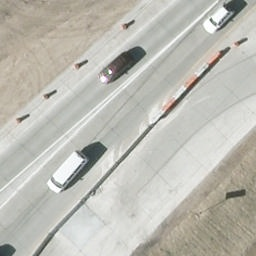car: (101, 54, 134, 87), (204, 7, 238, 35)
van: (51, 150, 87, 195)
